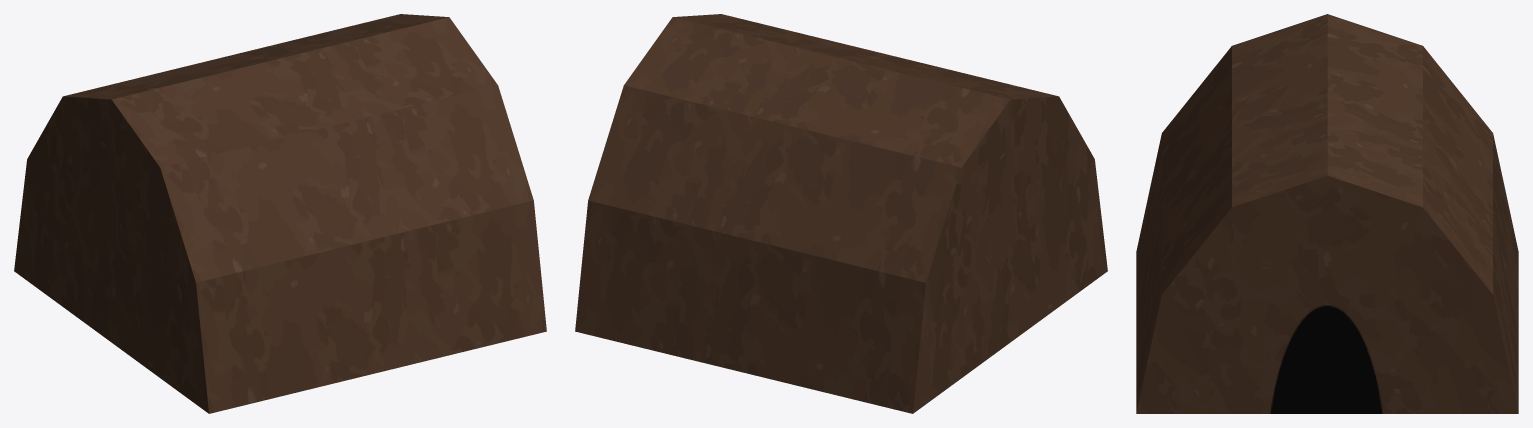
Rendered from mud_hut.fbx.
The picture shows the model from 3 angles, left to right: view 1: azimuth 30°, elevation 25°; view 2: azimuth 150°, elevation 25°; view 3: azimuth 270°, elevation 25°; orthographic projection.
Visible parts, largest first — view 1: MudHut; view 2: MudHut; view 3: MudHut.
Boxes of the visible parts, bbox=[...] form: MudHut: bbox=[14, 14, 546, 413]; MudHut: bbox=[575, 14, 1107, 413]; MudHut: bbox=[1136, 14, 1518, 413].
Bounding box in the file's own units: 550 × 800 × 800.
